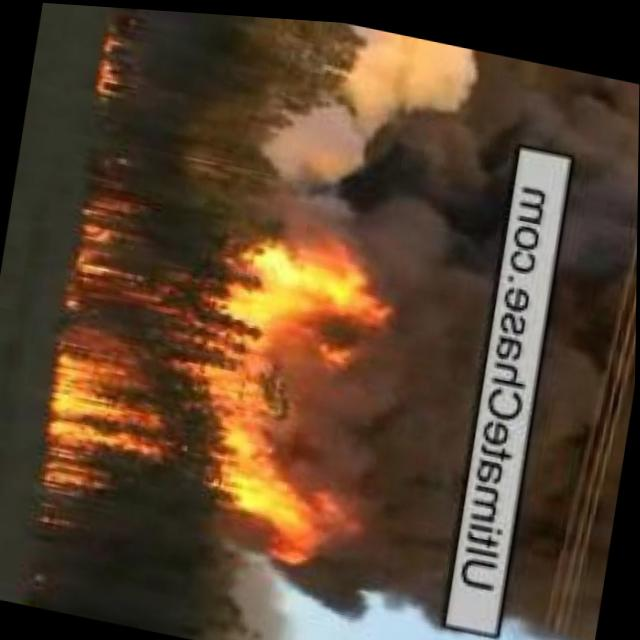Fire: (41, 184, 420, 579), (93, 21, 129, 105)
